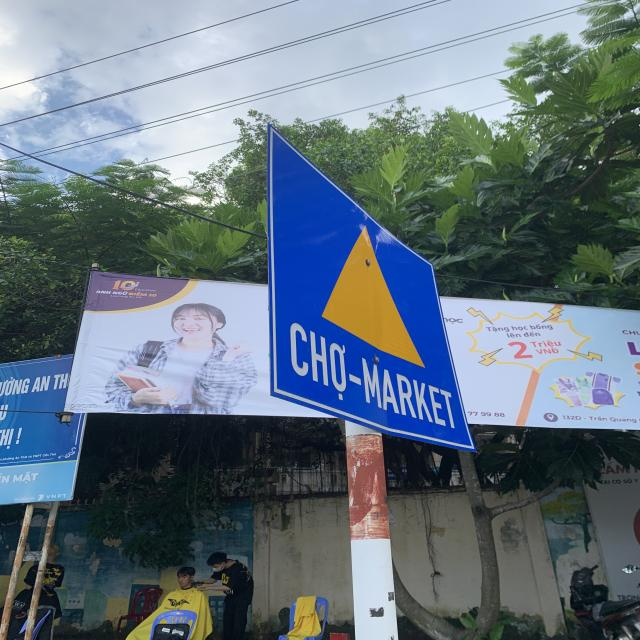Cho_Quay_Xe: (267, 136, 477, 450)
